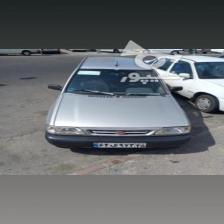plate: (90, 141, 146, 149)
